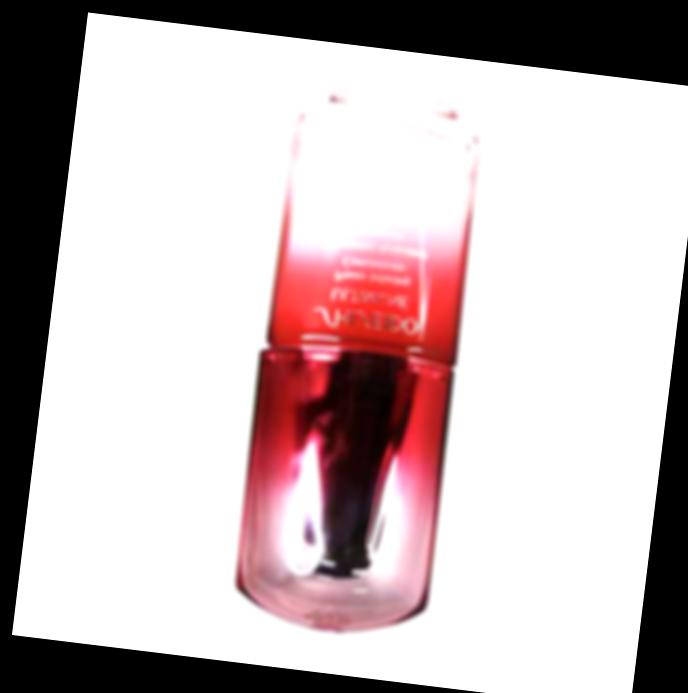cosmetic: (224, 79, 493, 648)
